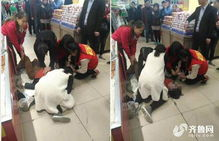10+: (1, 1, 218, 124)
down: (160, 70, 188, 104), (16, 58, 48, 82)
